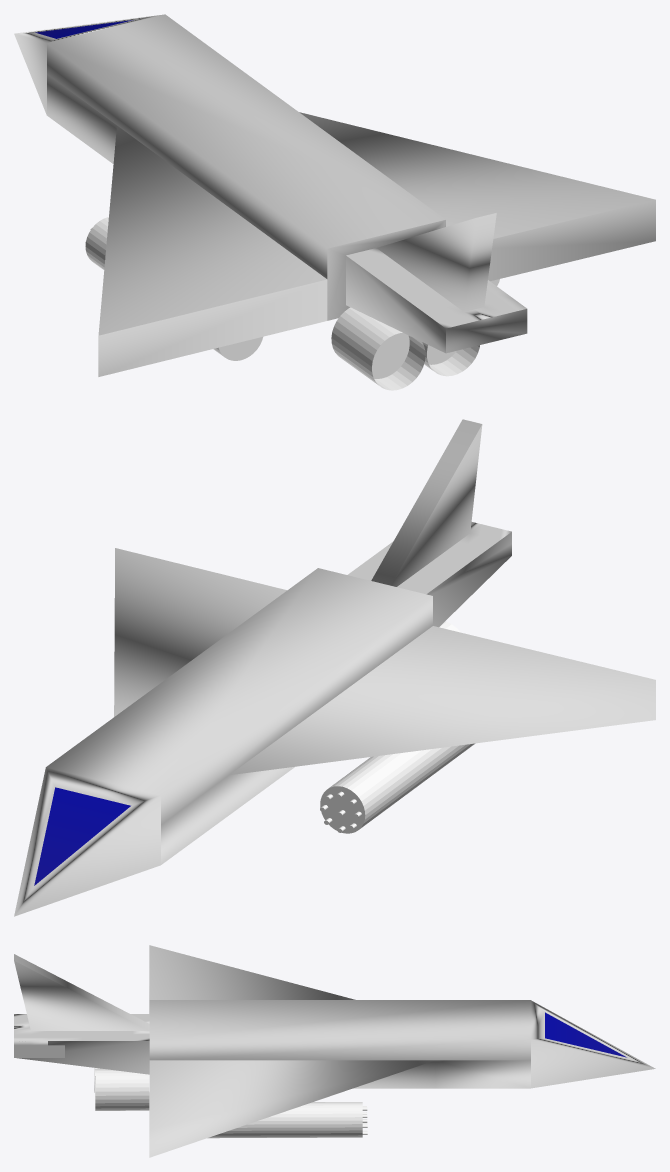
The model's file is nave-com-turbina.fbx.
3 renders of one model, top to bottom at view 1: azimuth 30°, elevation 25°; view 2: azimuth 150°, elevation 25°; view 3: azimuth 270°, elevation 25°, orthographic. The views are drawn at different scales.
Visible parts, largest first — view 1: Nave; view 2: Nave; view 3: Nave.
Part boxes in pixels (x1,y1,x2,y2): Nave: (14, 14, 655, 390); Nave: (14, 419, 655, 916); Nave: (14, 945, 655, 1157).
Size of what is drawn, in the model's own units: 564 by 204 by 829.
